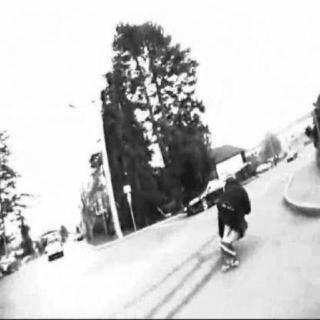other: (210, 230, 263, 278)
